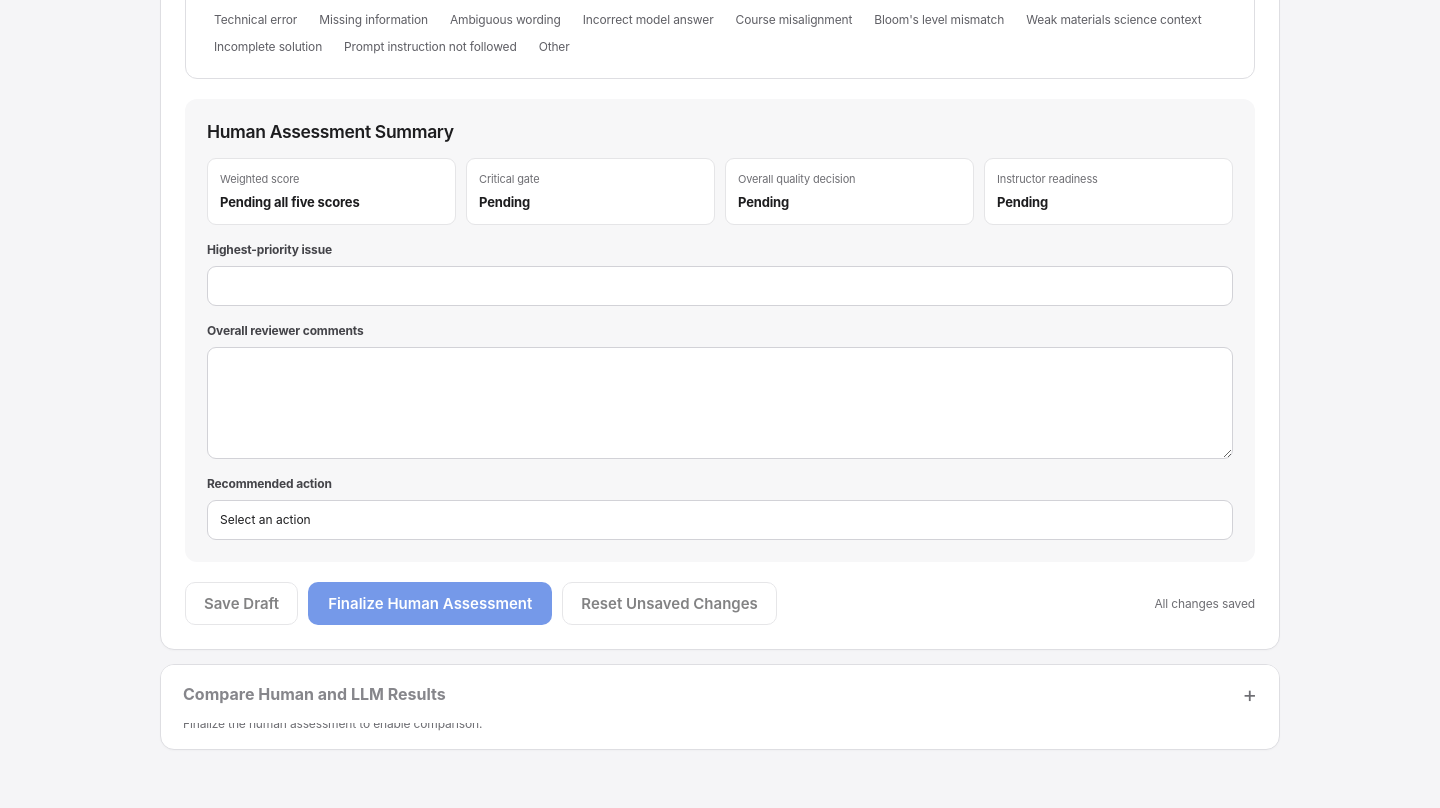
Test: reset restores the last server response and dirty navigation asks for confirmation
(page scrolled)
Type "Unsaved local note" into the text box labelled "Overall reviewer comments" at (720, 403), box [207, 347, 1233, 459]
(page scrolled)
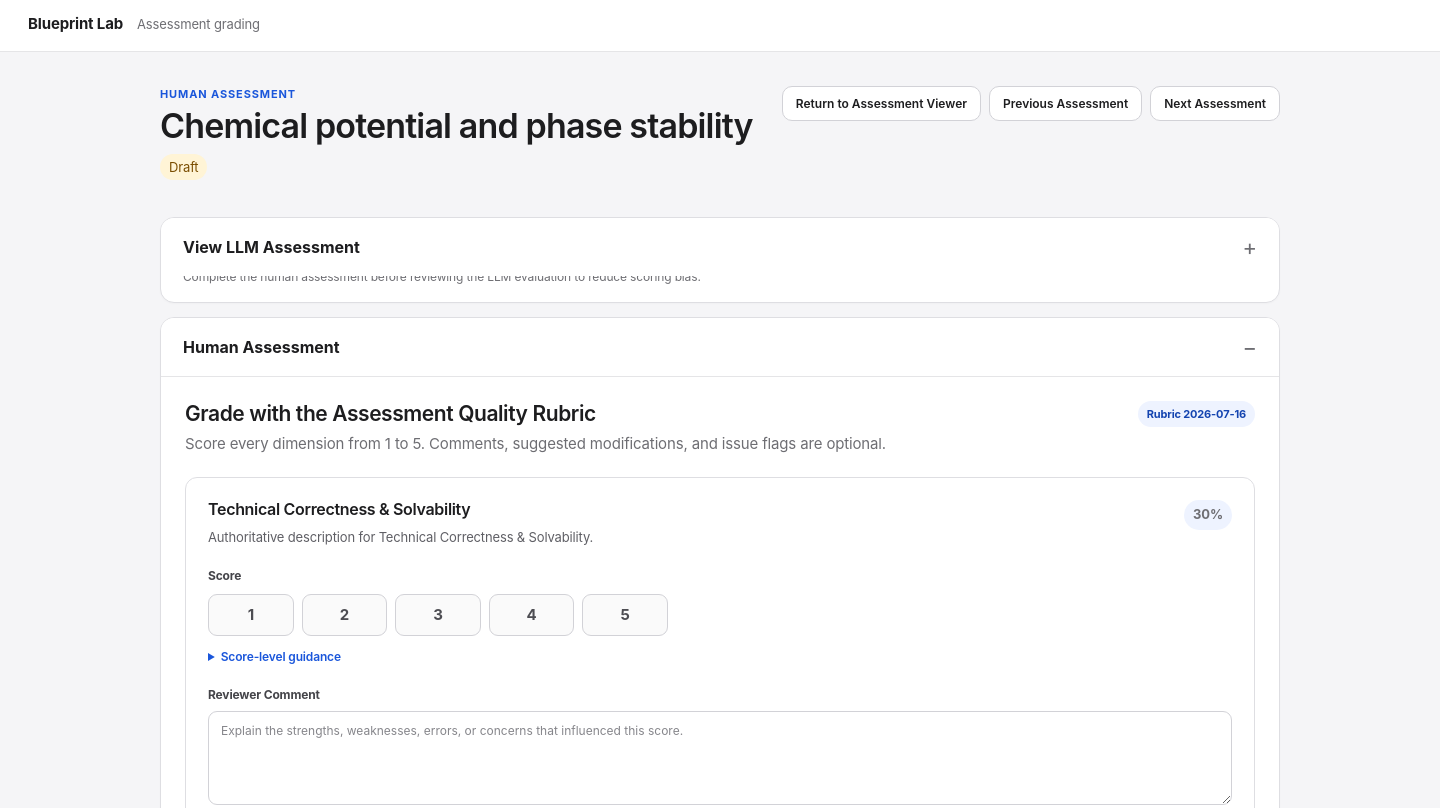
Click the button "Next Assessment" at (1215, 104), box [1150, 86, 1280, 121]
(page scrolled)
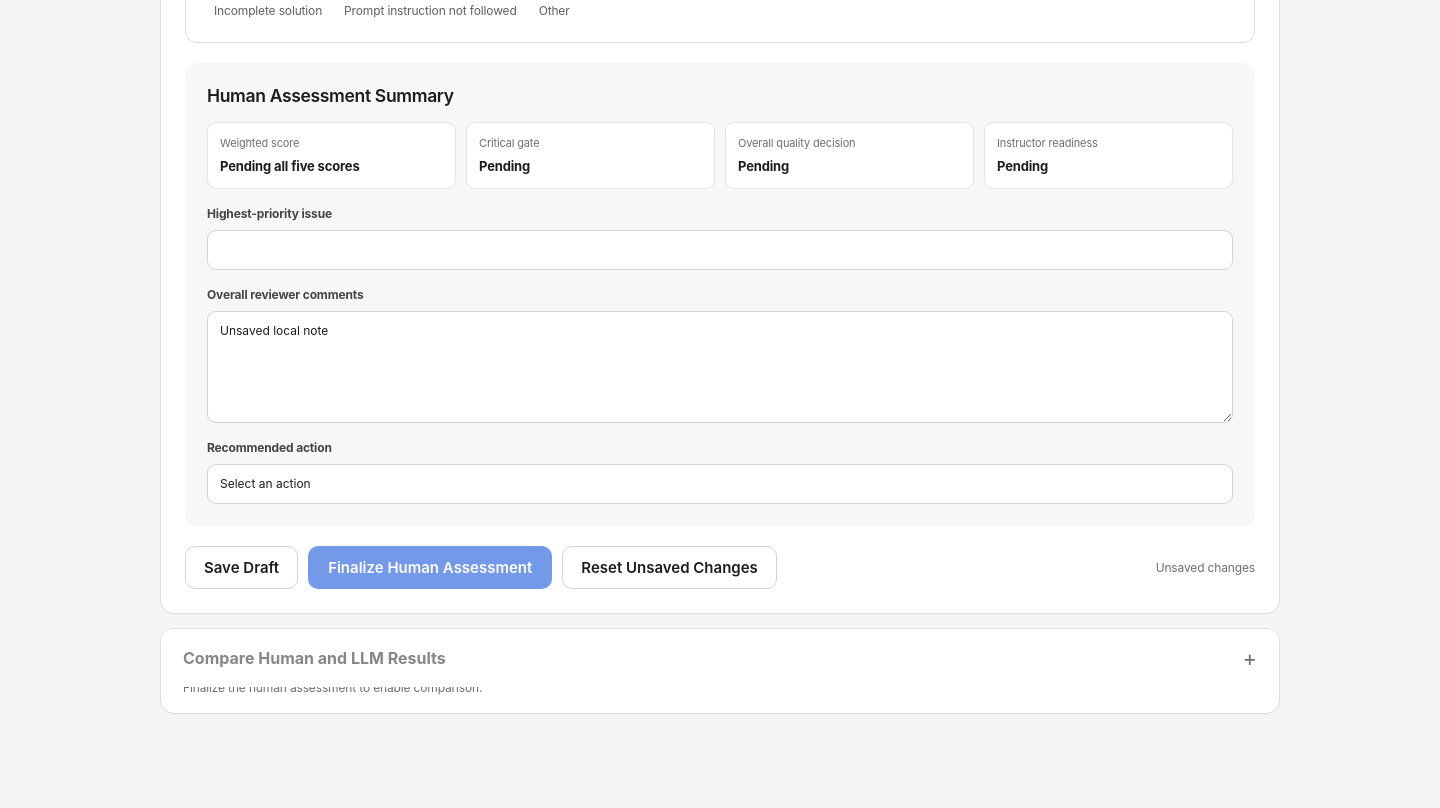
Click the button "Reset Unsaved Changes" at (670, 568), box [562, 546, 777, 589]
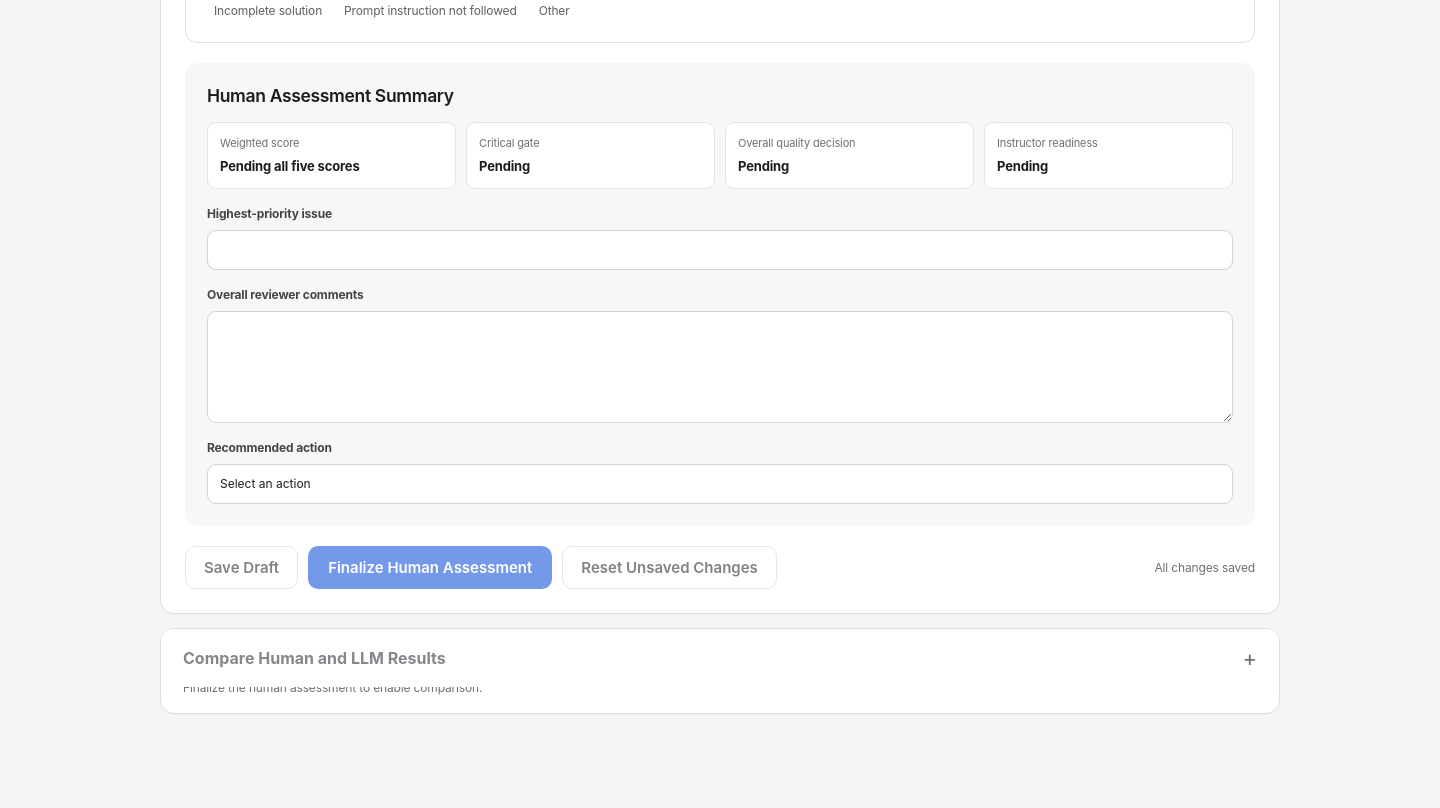
Check: the text box labelled "Overall reviewer comments" is empty, box [207, 311, 1233, 423]
